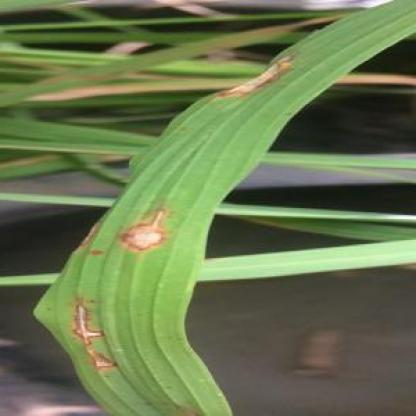Rice blast: (68, 289, 125, 384), (202, 59, 305, 109), (116, 209, 173, 258)
